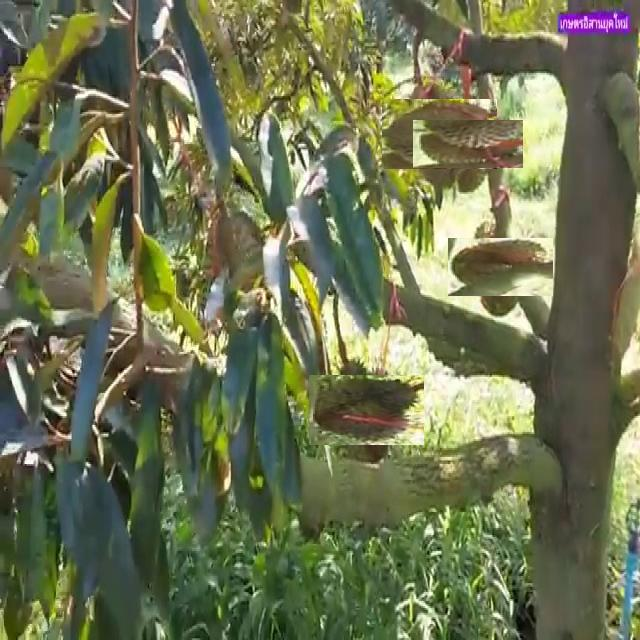durian: (392, 88, 486, 180), (320, 364, 413, 456), (459, 226, 541, 308), (428, 105, 507, 184)
